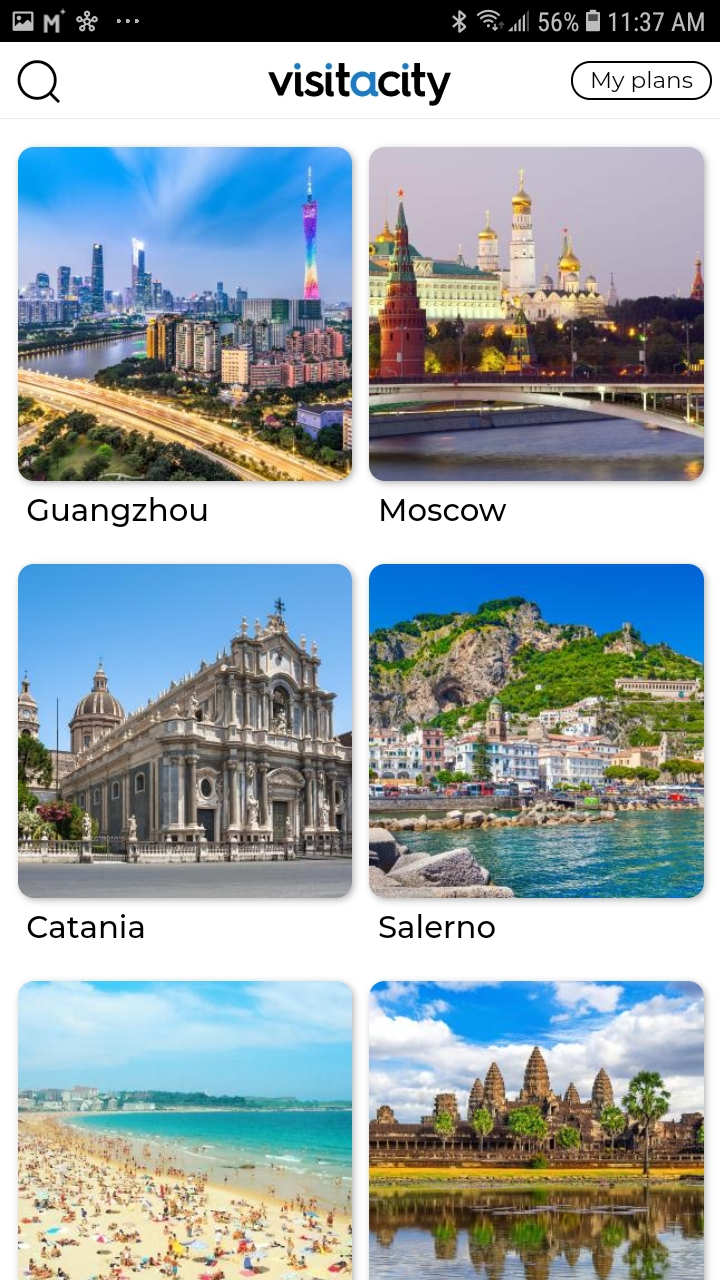Icon: (17, 60, 61, 105)
Image: (369, 564, 704, 899), (369, 147, 704, 482), (19, 563, 353, 899), (19, 147, 353, 482), (369, 981, 704, 1280), (19, 981, 353, 1279), (268, 63, 452, 108)
Text: (28, 497, 208, 528), (28, 913, 145, 939), (381, 498, 507, 522), (380, 913, 496, 939)
TextButton: (570, 62, 712, 102)
UpperTaskBar: (2, 2, 720, 43)
